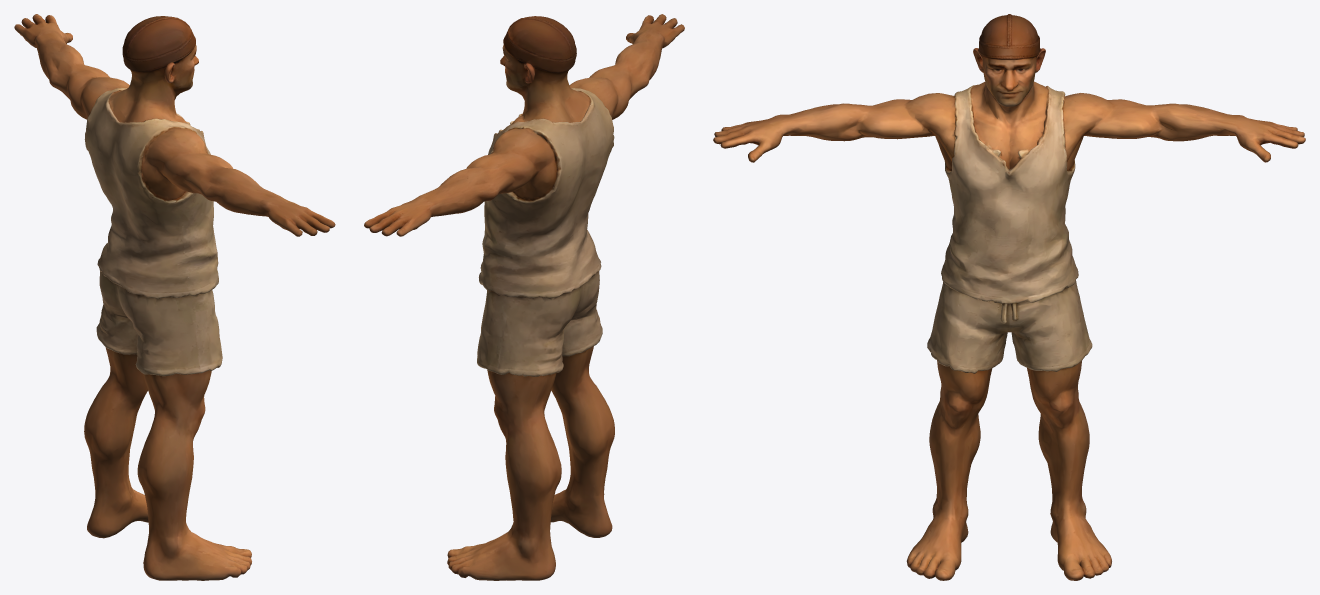
3 views of the same model, side by side, from view 1: azimuth 30°, elevation 25°; view 2: azimuth 150°, elevation 25°; view 3: azimuth 270°, elevation 25° (orthographic).
Parts seen in each view (by area): view 1: tripo_node_791e4404-84a6-4159-b102-ab2b926e0f1b; view 2: tripo_node_791e4404-84a6-4159-b102-ab2b926e0f1b; view 3: tripo_node_791e4404-84a6-4159-b102-ab2b926e0f1b.
Boxes of the visible parts, x1,y1,x2,y2 form: tripo_node_791e4404-84a6-4159-b102-ab2b926e0f1b: (14, 14, 335, 580); tripo_node_791e4404-84a6-4159-b102-ab2b926e0f1b: (364, 14, 684, 580); tripo_node_791e4404-84a6-4159-b102-ab2b926e0f1b: (713, 14, 1305, 580).
Bounding box in the file's own units: 0.2165 × 1 × 0.9985.
1 material, 1 textured.
